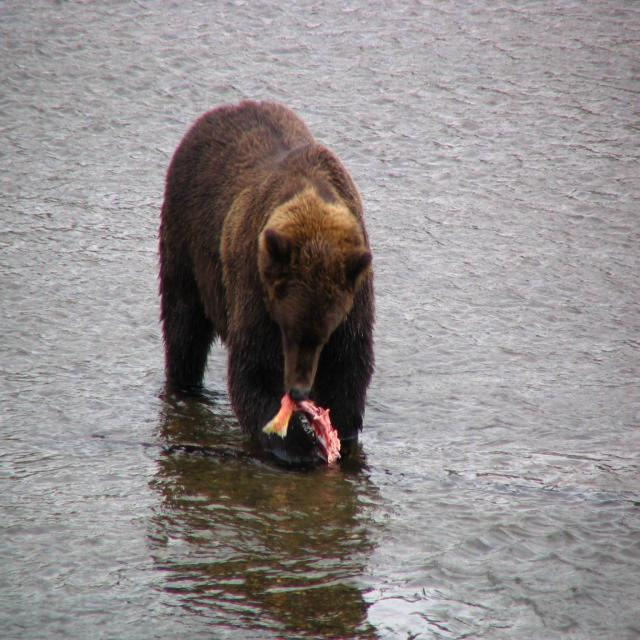bear face: (162, 98, 370, 436)
